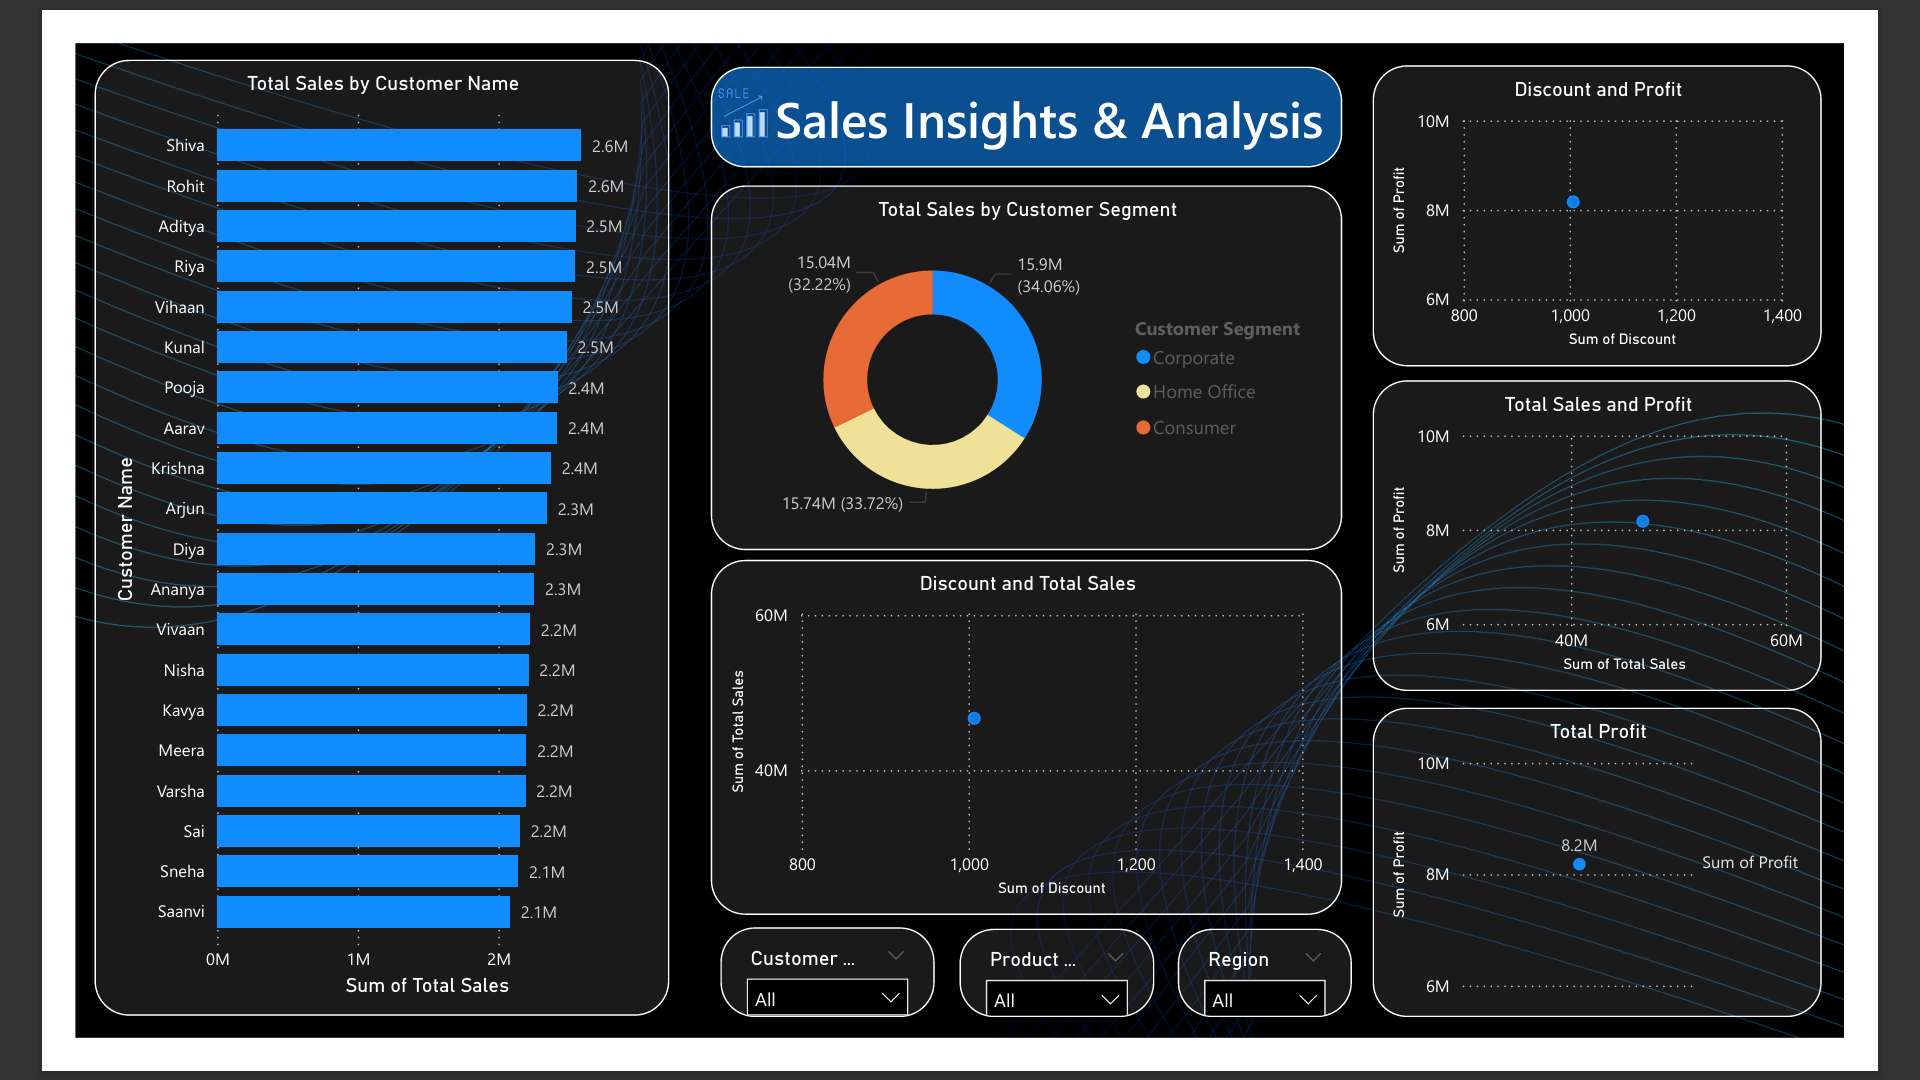

Layout of this report page (visuals, bound fields, positions):
{"tool":"powerbi","page":{"name":"Sales Insights and Analysis","canvas":[1280,720],"ordinal":1},"visuals":[{"type":"shape","box":[460,16.7,456.7,73.3],"z":0},{"type":"lineChart","title":"Total Profit","fields":{"Y":["sales_performance_10000.Profit"]},"box":[938.8,481.2,325,223.8],"z":1000},{"type":"scatterChart","title":"Total Sales and Profit","fields":{"X":["sales_performance_10000.Total Sales"],"Y":["sales_performance_10000.Profit"]},"box":[938.8,243.8,325,225],"z":2000},{"type":"scatterChart","title":"Discount and Total Sales","fields":{"X":["sales_performance_10000.Discount"],"Y":["sales_performance_10000.Total Sales"]},"box":[460,374.4,456.7,256.7],"z":3000},{"type":"scatterChart","title":"Discount and Profit","fields":{"X":["sales_performance_10000.Discount"],"Y":["sales_performance_10000.Profit"]},"box":[938.8,16.2,325,217.5],"z":4000},{"type":"clusteredBarChart","title":"Total Sales by Customer Name","fields":{"Category":["sales_performance_10000.Customer Name"],"Y":["sales_performance_10000.Total Sales"]},"box":[14.4,12.2,415.6,692.2],"z":5000},{"type":"donutChart","title":"Total Sales by Customer Segment","fields":{"Y":["sales_performance_10000.Total Sales"],"Category":["sales_performance_10000.Customer Segment"]},"box":[460,103.3,456.7,263.3],"z":6000},{"type":"slicer","fields":{"Values":["sales_performance_10000.Customer Segment"]},"box":[467.4,639.5,154.7,65.1],"z":7000},{"type":"slicer","fields":{"Values":["sales_performance_10000.Region"]},"box":[797.7,640.7,126.7,64],"z":8000},{"type":"slicer","fields":{"Values":["sales_performance_10000.Product Category"]},"box":[639.5,640.7,141.9,64],"z":9000},{"type":"image","box":[460,20,46.7,61.1],"z":10000}]}

Visuals, with their boxes in screenshot pixels (x1, y1, x2, y2), scaled from the page's 1280x720 canvas onto the 1920x1080 screenshot:
shape: 690:25:1375:135
"Total Profit" lineChart: 1408:722:1896:1058
"Total Sales and Profit" scatterChart: 1408:366:1896:703
"Discount and Total Sales" scatterChart: 690:562:1375:947
"Discount and Profit" scatterChart: 1408:24:1896:351
"Total Sales by Customer Name" clusteredBarChart: 22:18:645:1057
"Total Sales by Customer Segment" donutChart: 690:155:1375:550
slicer - sales_performance_10000.Customer Segment: 701:959:933:1057
slicer - sales_performance_10000.Region: 1197:961:1387:1057
slicer - sales_performance_10000.Product Category: 959:961:1172:1057
image: 690:30:760:122
